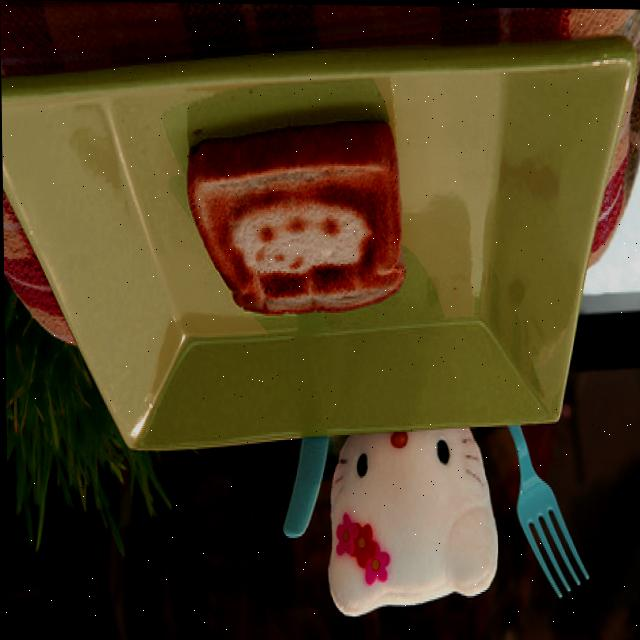面包点心: (173, 100, 413, 325)
